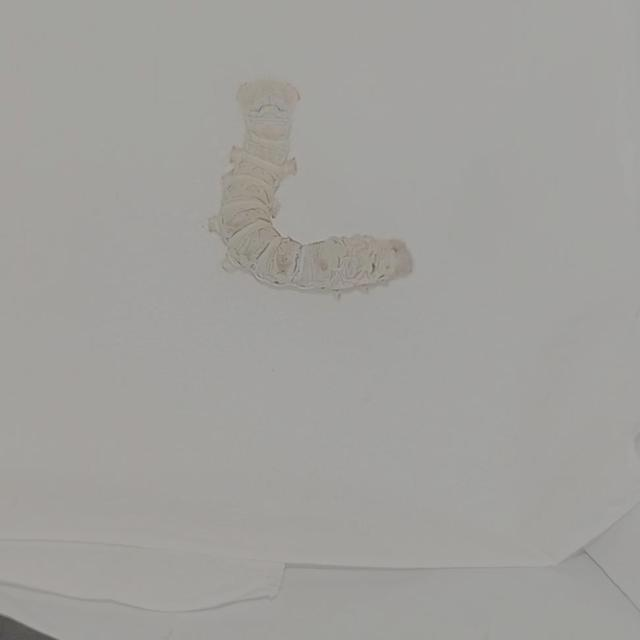Healthy: (181, 45, 445, 323)
